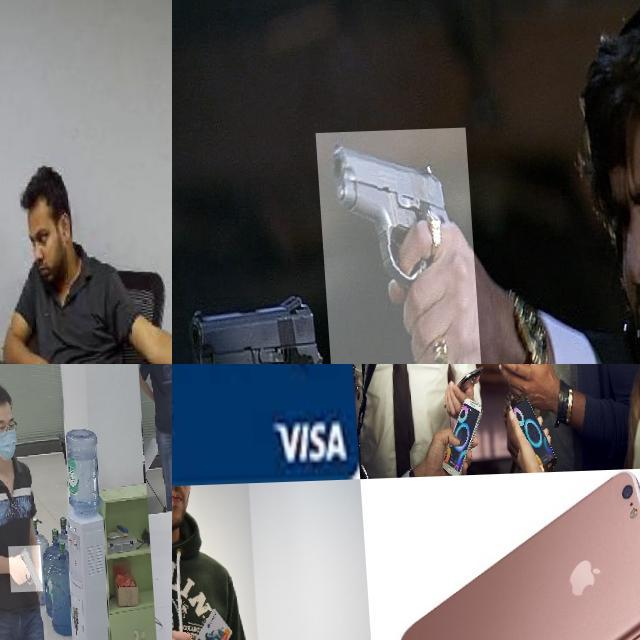gun-knife-thesis - v11 Yolov5 augmented: (313, 130, 477, 364), (177, 295, 341, 364), (6, 547, 40, 594)
